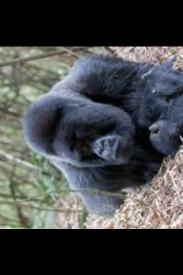goriile_montagne: (19, 54, 183, 214)
